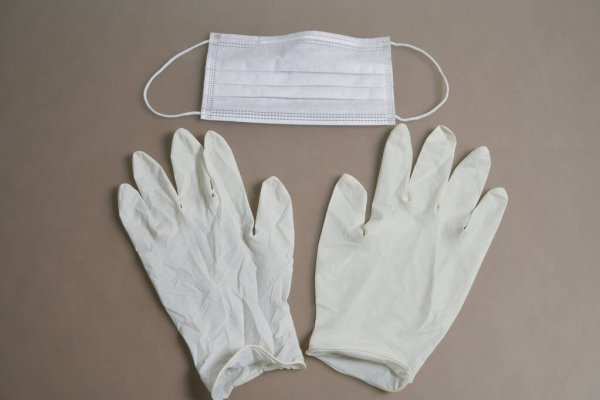Gloves: (311, 123, 513, 395), (113, 127, 306, 391)
Mask: (196, 25, 401, 131)
